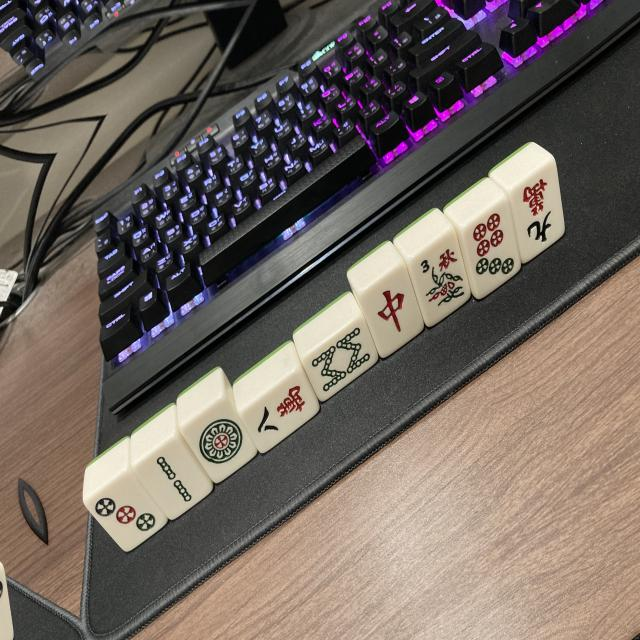ff3: (408, 236, 476, 324)
m8: (241, 370, 322, 450)
m9: (505, 168, 570, 258)
s2: (135, 437, 216, 521)
s8: (304, 322, 382, 399)
t1: (181, 399, 258, 486)
t3: (85, 473, 167, 555)
t7: (456, 205, 526, 298)
zhong: (356, 270, 428, 358)
